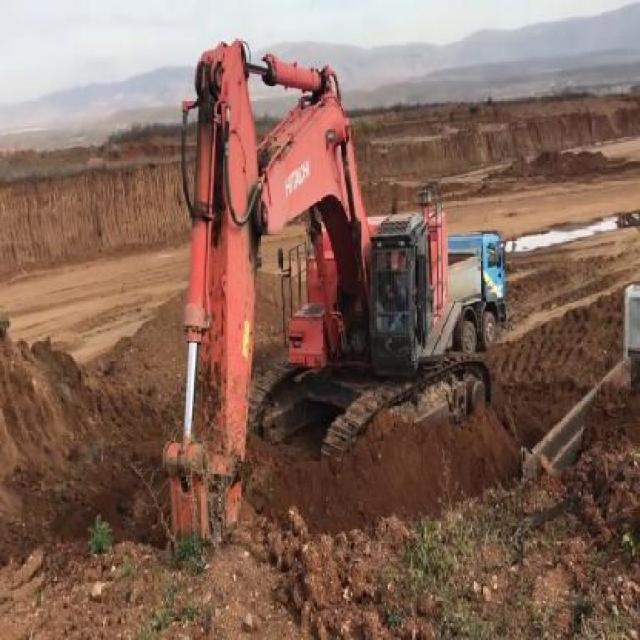dump_truck: (447, 231, 505, 354)
excavator: (160, 37, 492, 560)
